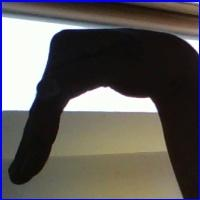A: (16, 26, 184, 175)
